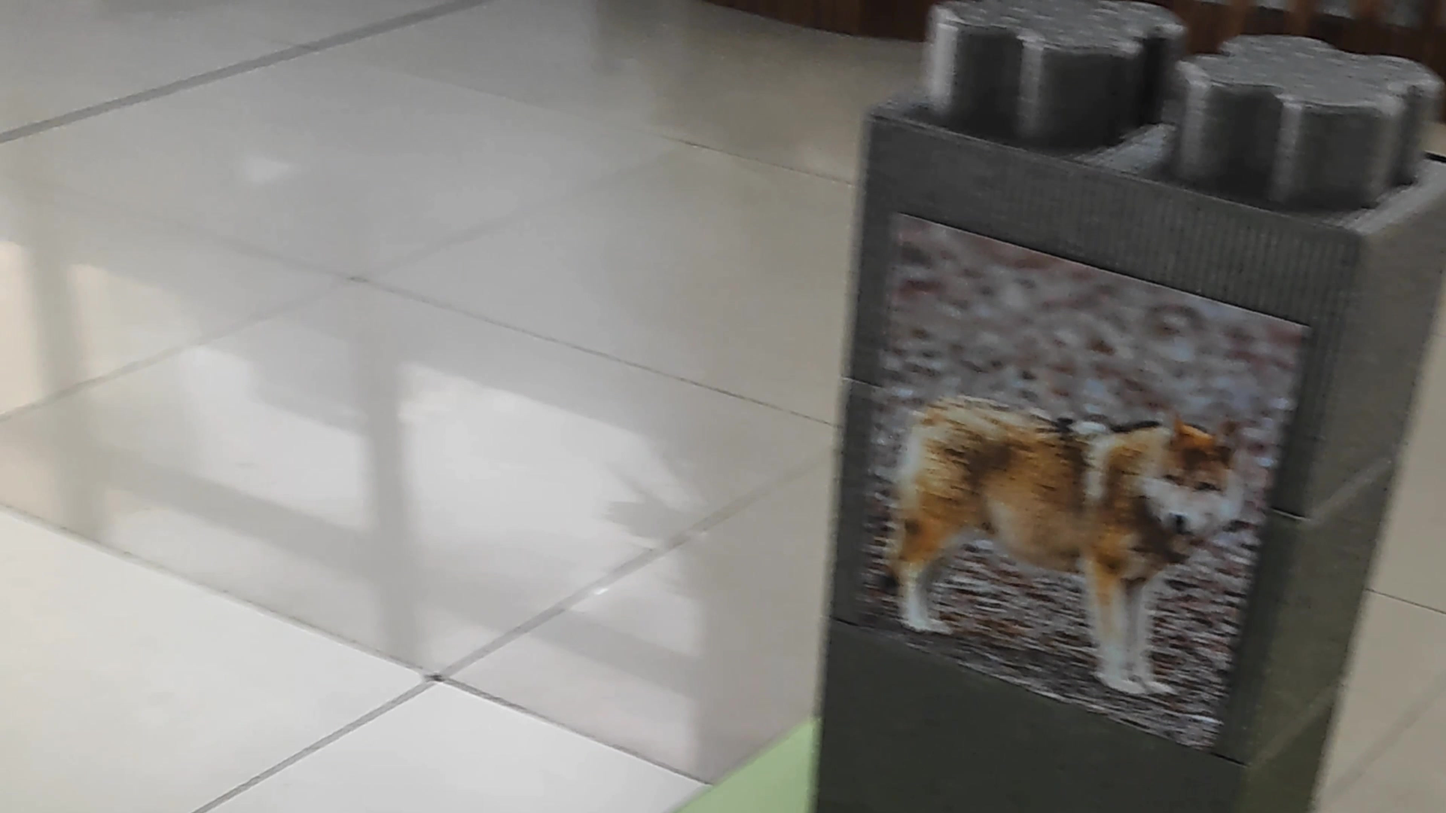wolf: (853, 338, 1245, 708)
